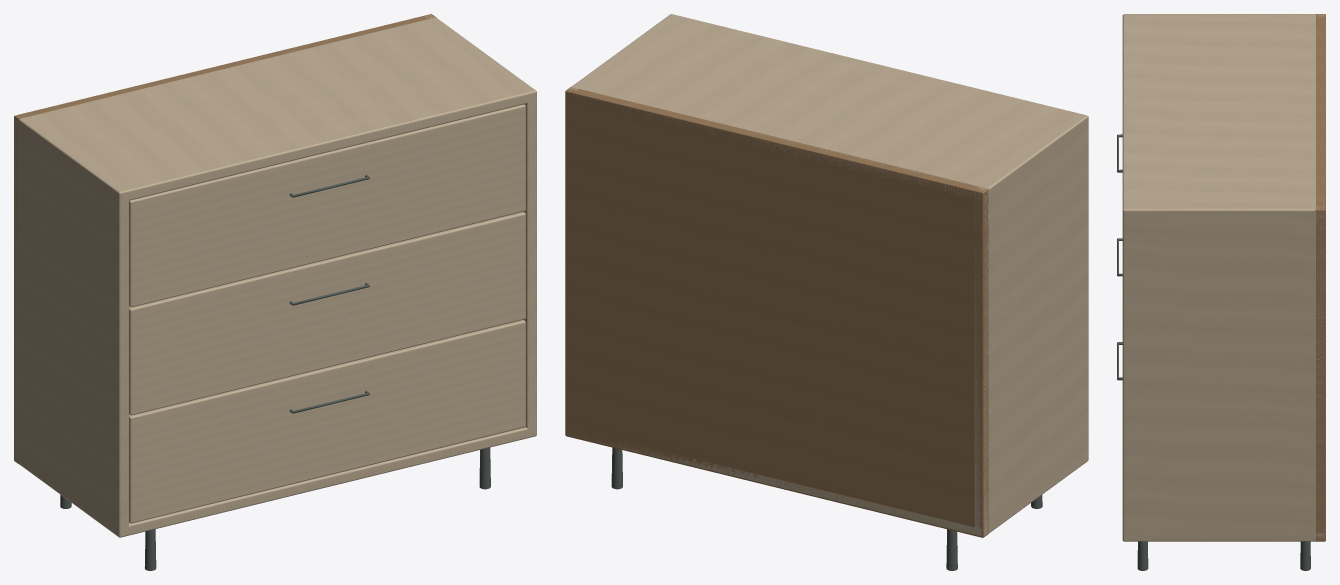
3 renders of one model, left to right at view 1: azimuth 30°, elevation 25°; view 2: azimuth 150°, elevation 25°; view 3: azimuth 270°, elevation 25°, orthographic. The views are drawn at different scales.
Visible parts, largest first — view 1: top, front_0_0, front_1_0, front_2_0, side_-1, bottom, side_1, back; view 2: back, top, side_-1, bottom, side_1; view 3: side_1, top, back, bottom, side_-1, leg_1_1, leg_1_-1.
Boxes of the visible parts, <box> form: top: <box>28,19,536,200</box>; front_0_0: <box>129,320,525,523</box>; front_1_0: <box>129,212,525,415</box>; front_2_0: <box>129,104,525,307</box>; side_-1: <box>14,117,128,537</box>; bottom: <box>46,427,536,537</box>; side_1: <box>425,14,536,437</box>; back: <box>14,14,436,463</box>; back: <box>565,87,988,537</box>; top: <box>573,16,1088,200</box>; side_-1: <box>974,113,1088,535</box>; bottom: <box>571,434,1088,536</box>; side_1: <box>567,14,678,362</box>; side_1: <box>1122,205,1324,541</box>; top: <box>1122,17,1323,218</box>; back: <box>1315,14,1325,541</box>; bottom: <box>1122,533,1324,541</box>; side_-1: <box>1122,14,1323,18</box>; leg_1_1: <box>1137,541,1148,570</box>; leg_1_-1: <box>1300,541,1310,570</box>.
Size of the model in its own units: 1 by 0.9 by 0.45.
Materials: 3 (2 with a texture image).
